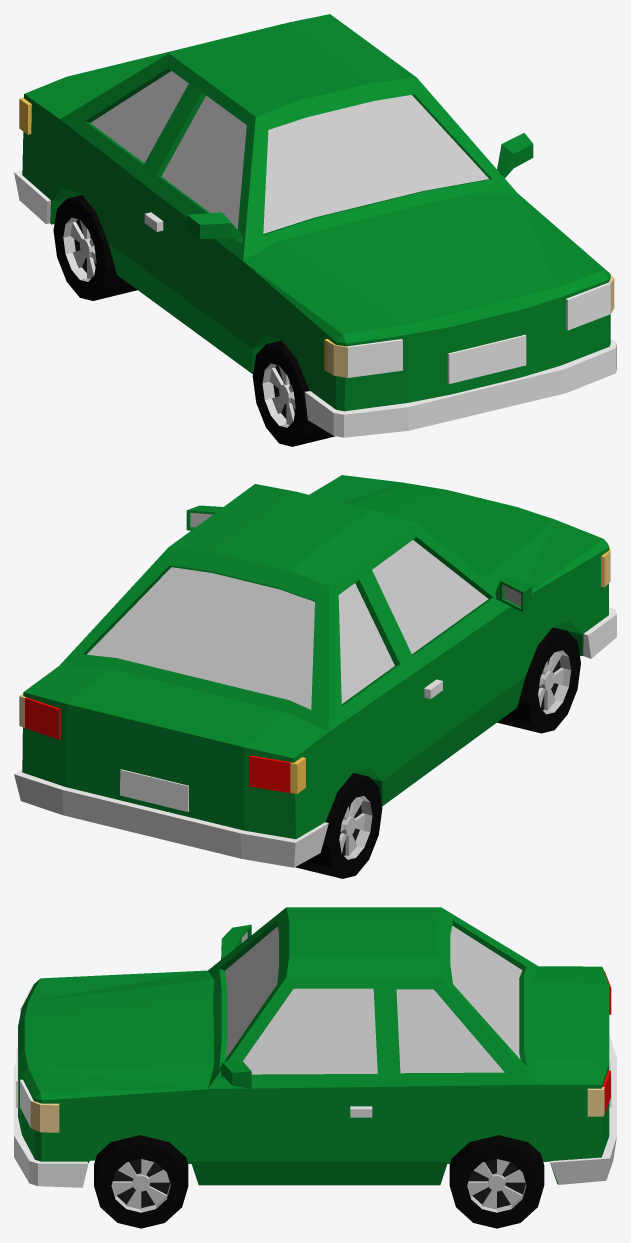
The model's file is Car-01-C.fbx.
The picture shows the model from 3 angles, top to bottom: view 1: azimuth 30°, elevation 25°; view 2: azimuth 150°, elevation 25°; view 3: azimuth 270°, elevation 25°; orthographic projection. The views are drawn at different scales.
Visible parts, largest first — view 1: Car-01, BR, FR, High-Beam, Light-Right; view 2: Car-01, BR, FR, Break-Light; view 3: Car-01, BL, FL, Light-Left.
Boxes of the visible parts, <box> form: Car-01: <box>14,14,616,437</box>; BR: <box>53,195,137,300</box>; FR: <box>252,340,334,446</box>; High-Beam: <box>346,282,610,377</box>; Light-Right: <box>326,339,347,377</box>; Car-01: <box>14,475,616,867</box>; BR: <box>295,773,382,878</box>; FR: <box>497,627,580,733</box>; Break-Light: <box>25,697,290,792</box>; Car-01: <box>14,907,616,1187</box>; BL: <box>449,1135,544,1228</box>; FL: <box>94,1135,188,1228</box>; Light-Left: <box>30,1087,604,1132</box>.
Size of the model in its own units: 2.45 by 1.79 by 4.26.
